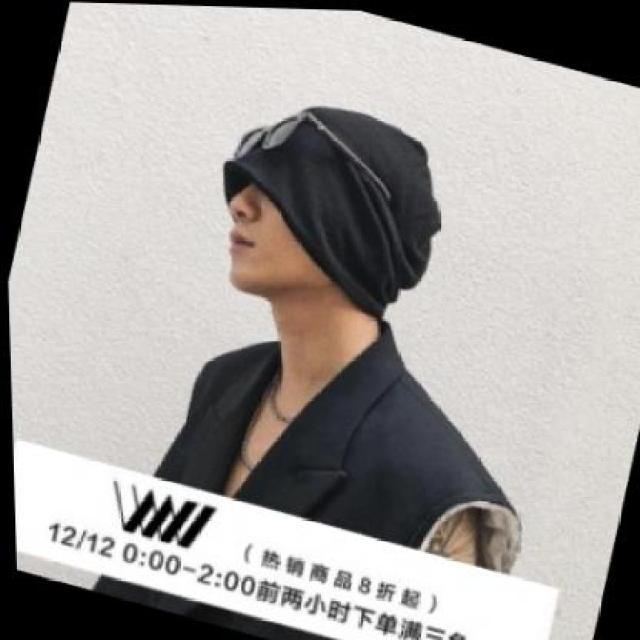hat: (188, 70, 470, 336)
